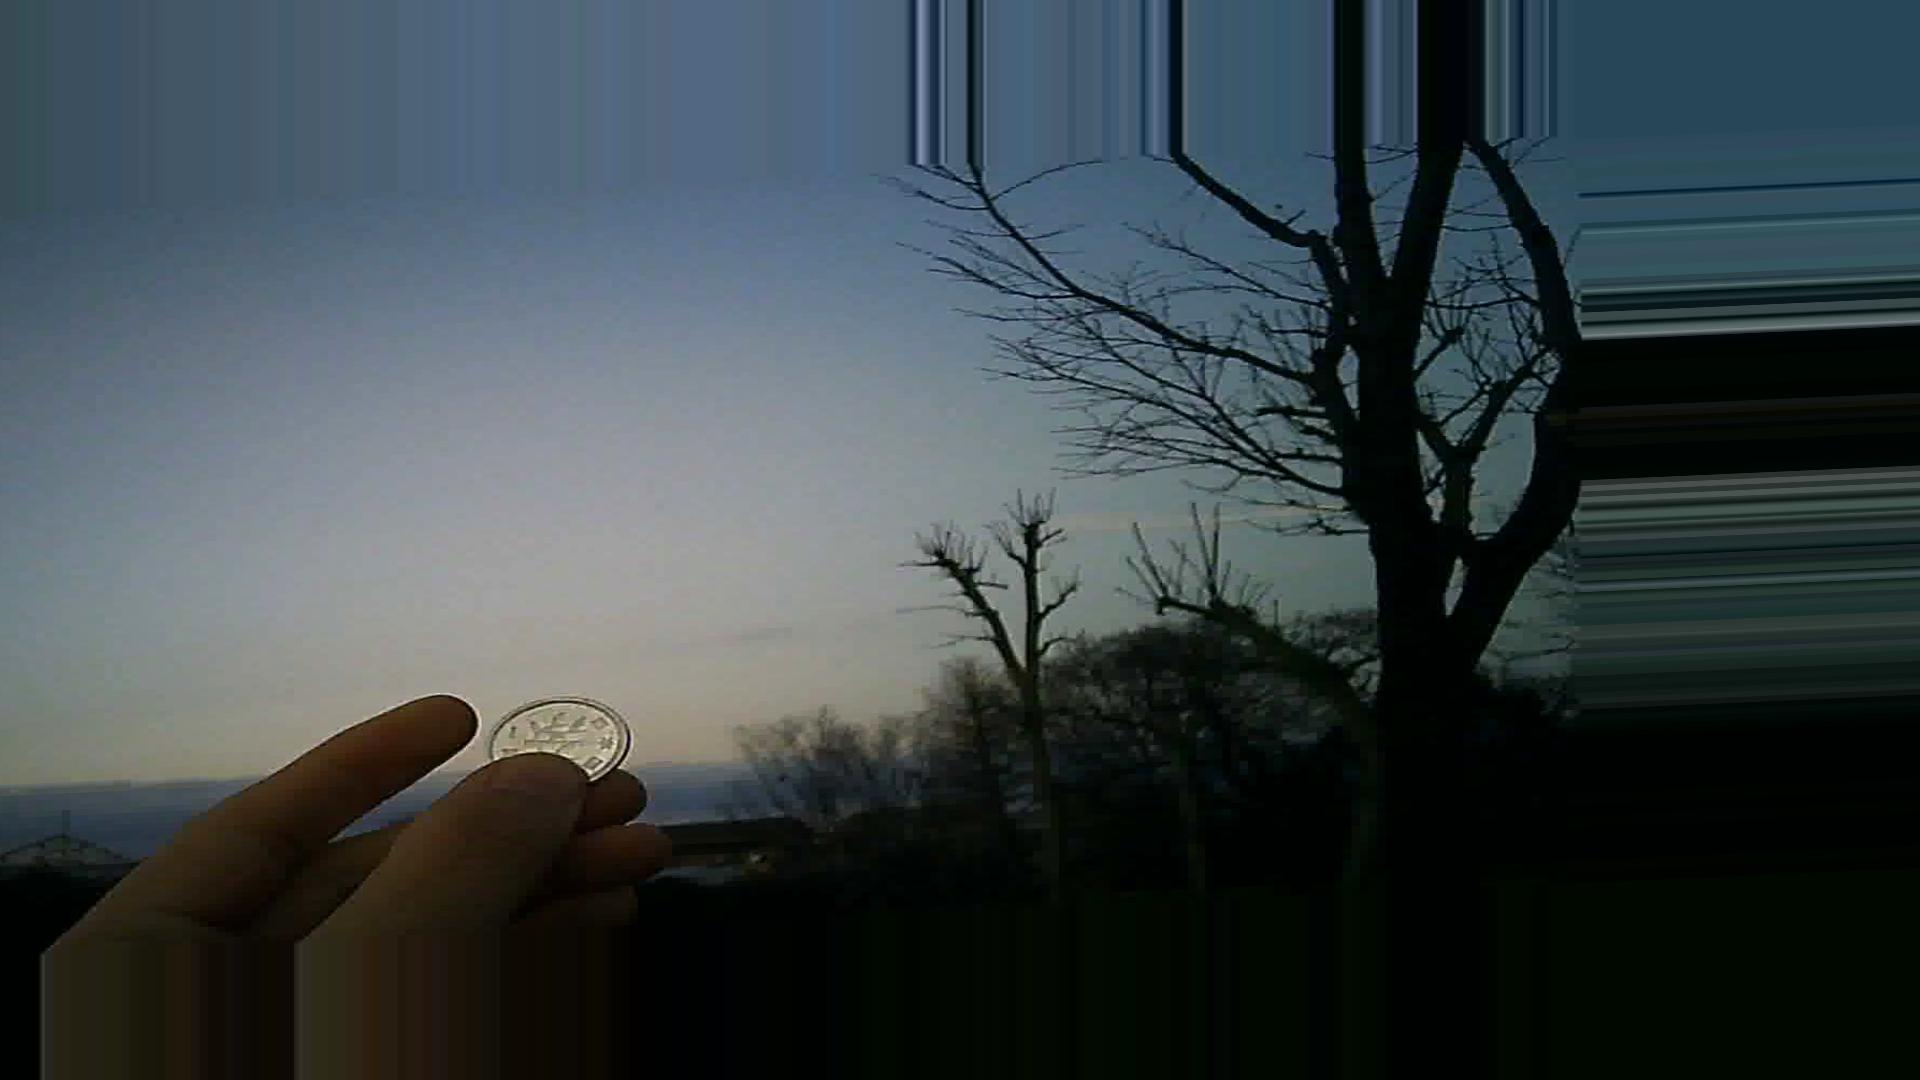1 Yen: (473, 691, 638, 785)
